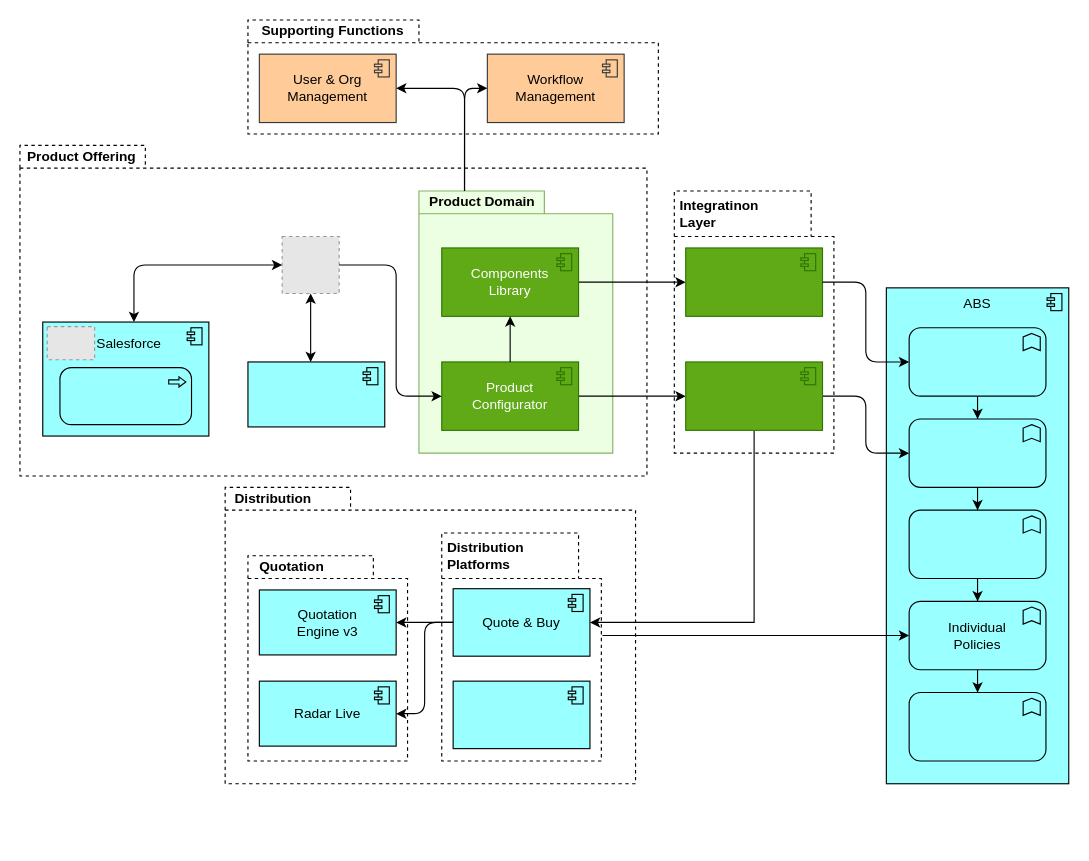
Image size: 1089x861. Some labels were removed from this diagram. Grey dashed boxes stand in for pictures. The box of each missing label's shape, as (x1, y1, x2, y2) in pixels:
Agreement Management: (908, 509, 1046, 579)
Claims Management: (908, 691, 1046, 761)
CMC: (908, 327, 1046, 396)
Components Integration: (685, 247, 823, 316)
Contract EPC: (452, 680, 590, 749)
Master Contract and MPOPs: (908, 418, 1046, 487)
Products Integration: (685, 361, 823, 430)
Sales Opportunity: (59, 367, 192, 425)
Underwriting Tools: (247, 361, 385, 427)
